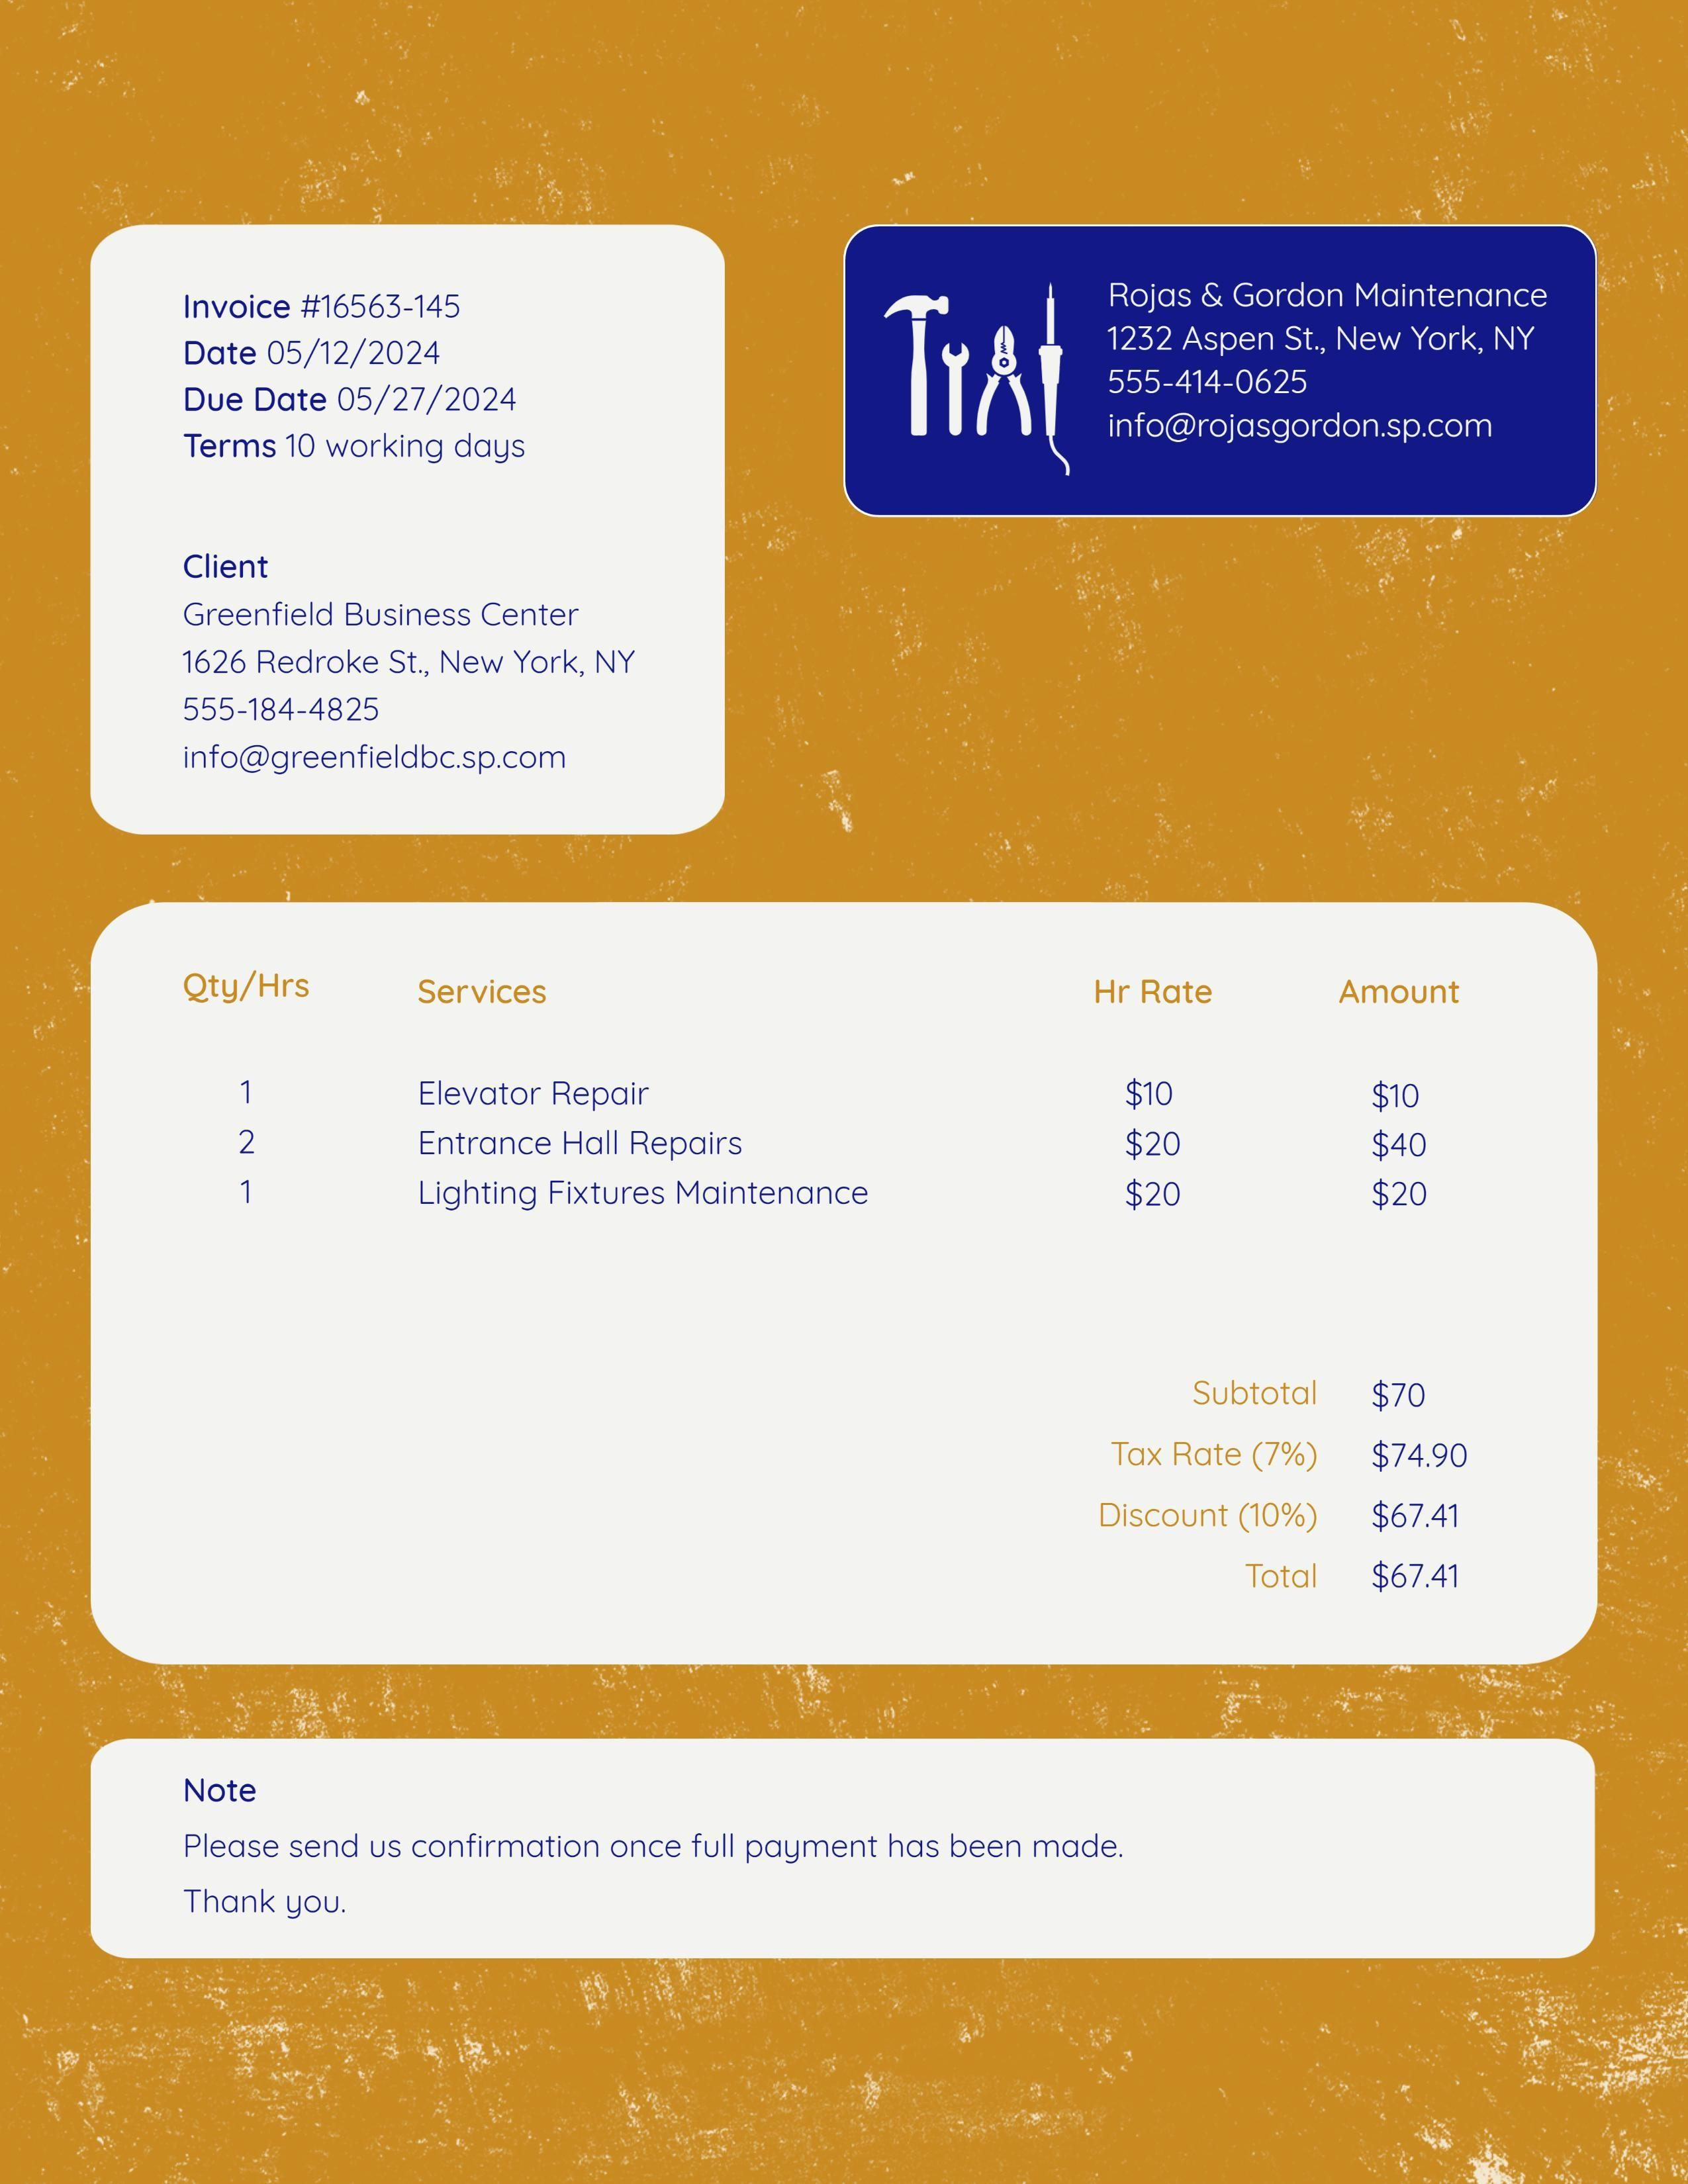ROI: (175, 960, 1470, 1244), (170, 545, 652, 779), (177, 1803, 1137, 1921), (1083, 1351, 1478, 1596), (1100, 270, 1559, 459), (175, 293, 583, 461)
